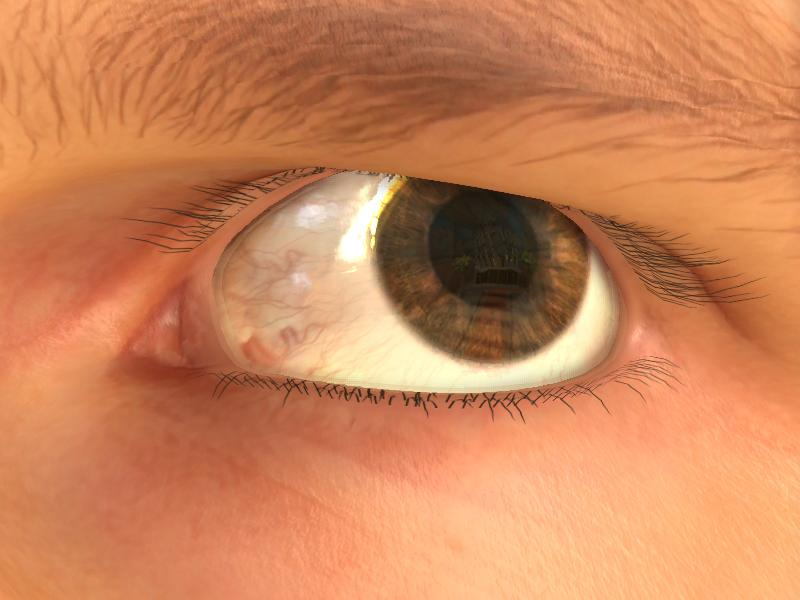eye: (378, 167, 582, 368)
